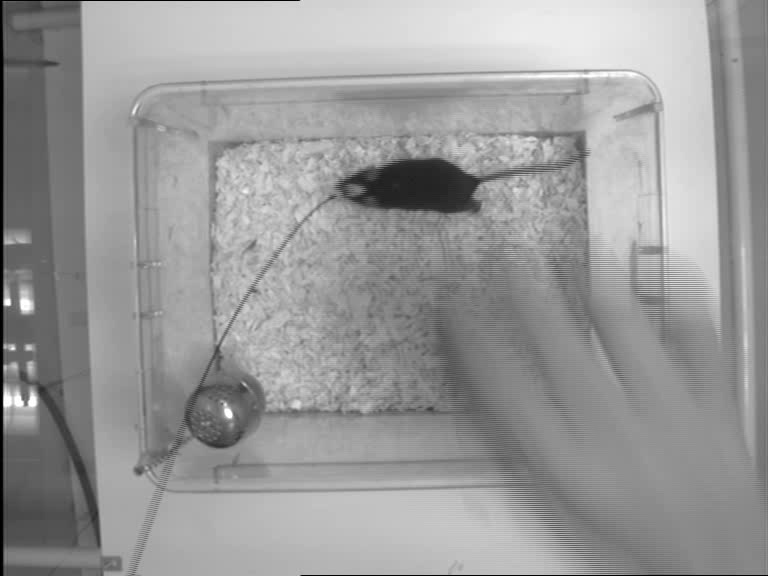mice: (332, 140, 591, 216)
